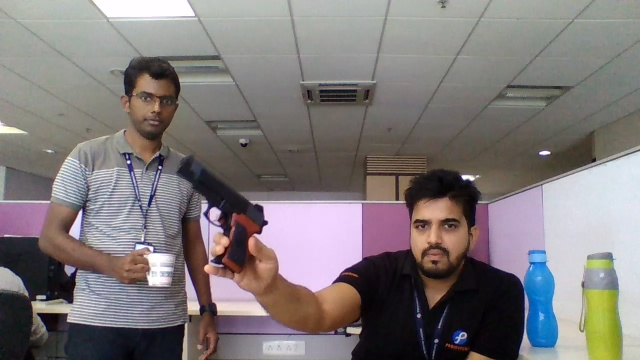gun: (177, 156, 269, 233)
